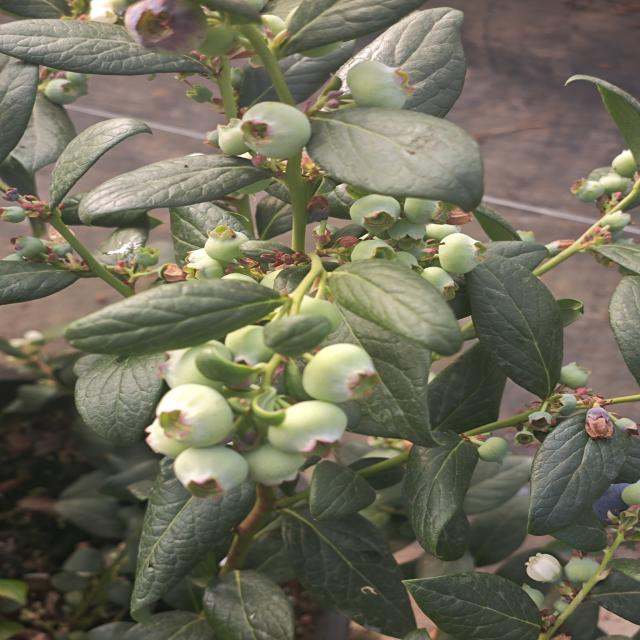ripe: (530, 399, 591, 449), (590, 470, 640, 528)
